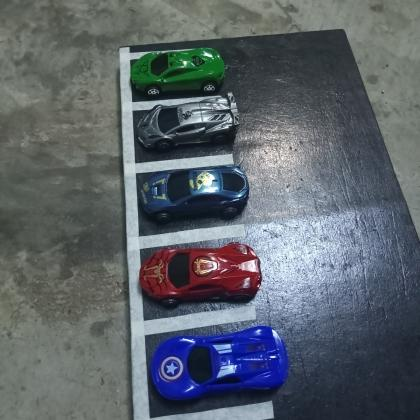Car: (150, 326, 290, 402), (139, 240, 264, 309), (136, 92, 246, 151), (139, 165, 250, 222), (131, 47, 227, 97)
